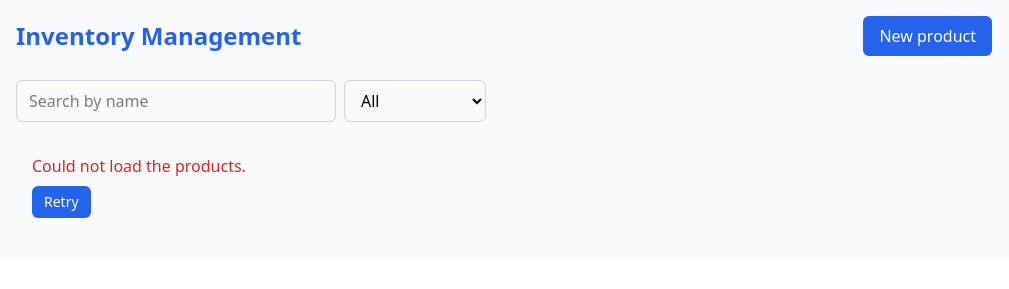
Test case: ProductList (listing flow) › shows the error state and re-requests when retry is clicked
Expected: the message shows "Could not load the products.", [32,155,246,177]
Click the button "Retry": {"x": 61, "y": 202} [32,186,91,218]
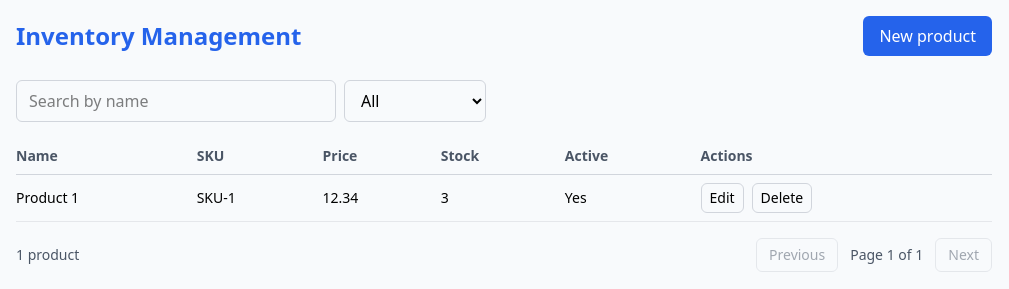
Expected: the text "Product 1" is shown, [16,174,197,222]
